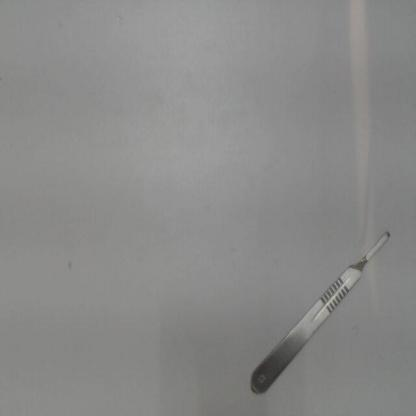No.4 BP Handle: (238, 221, 397, 407)
